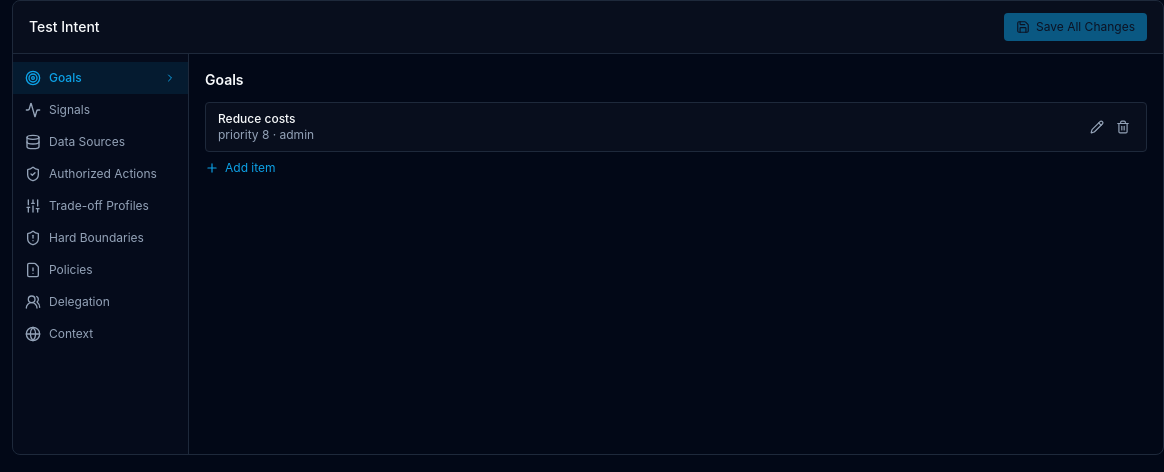
Test: IntentDocEditor › navigates to Signals section when clicked
This screenshot has width=1164, height=472.
Expected: the text "Signals" is shown, [49,102,90,117]
What coordinates should you click on to do the following:
click the button "Signals"
I would click on:
 (100, 110)
Its box is [13,94,188,126].
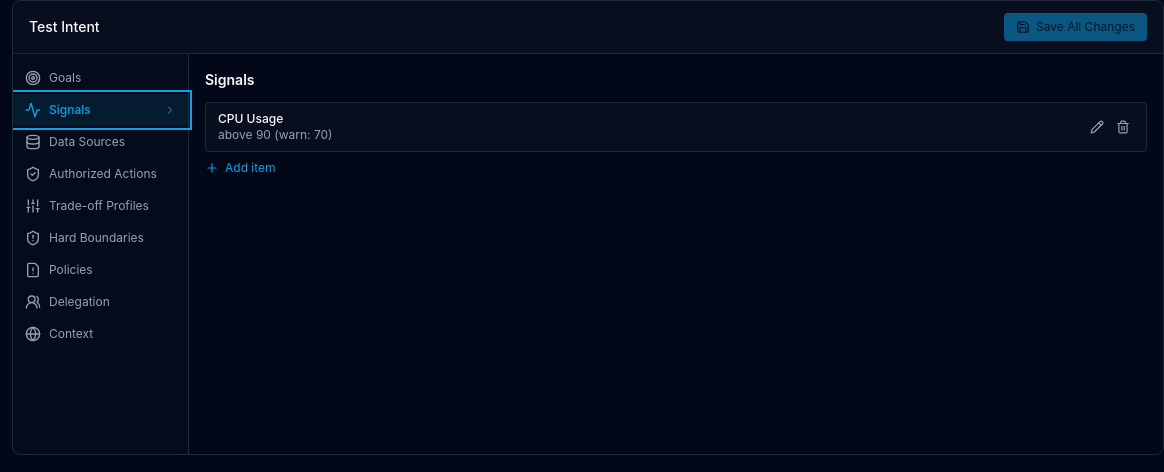
Now the text "CPU Usage" is shown, box [218,111,283,126]
